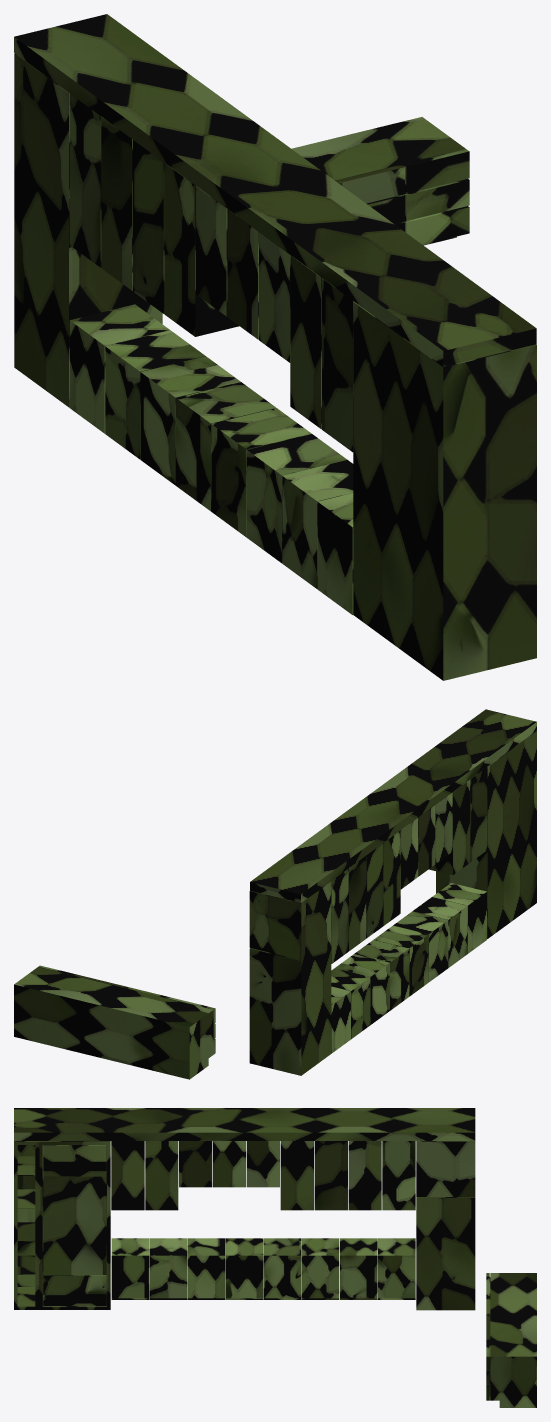
Rendered from modern_scandinavian_kitchen_island_1.obj.
3 views of the same model, one above another, from view 1: azimuth 30°, elevation 25°; view 2: azimuth 150°, elevation 25°; view 3: azimuth 270°, elevation 25° (orthographic). The views are drawn at different scales.
Size of the model in its own units: 4.41 by 3 by 7.99.
